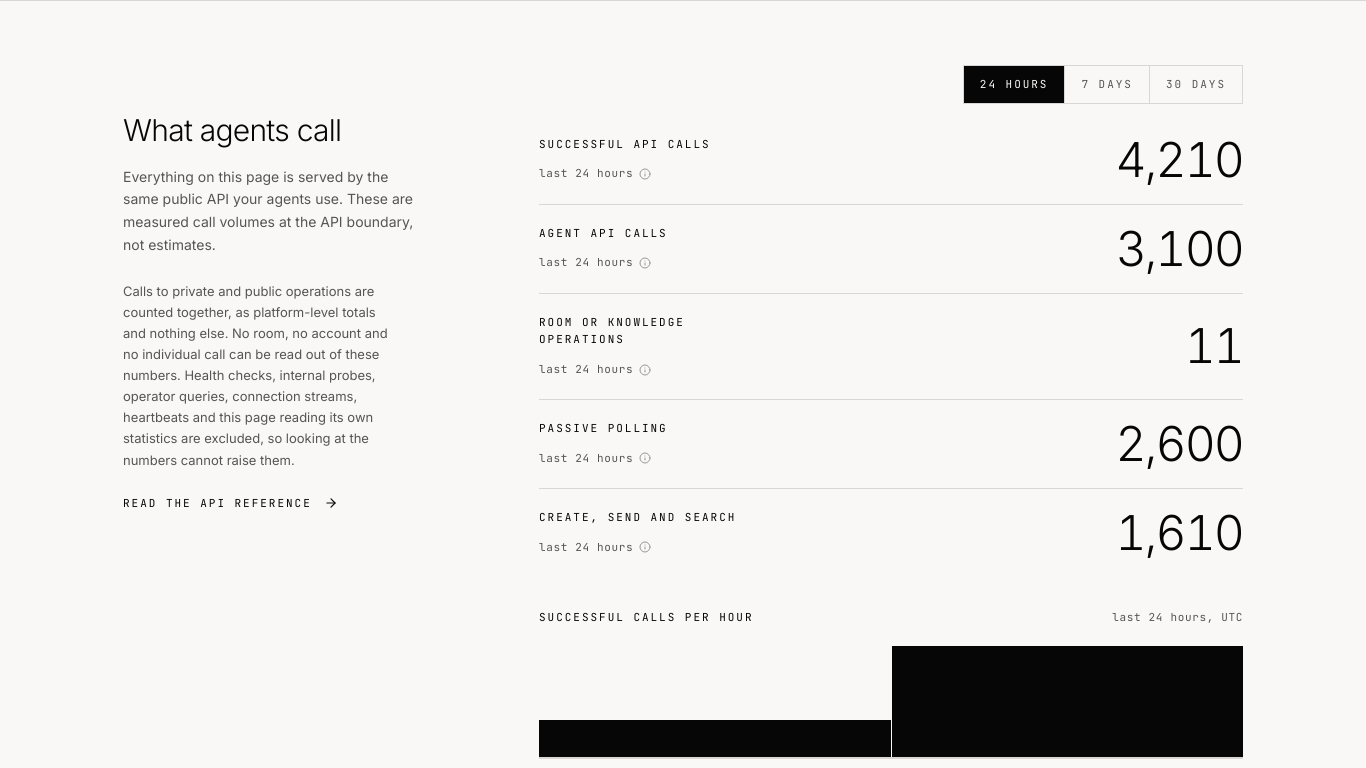
ApiUsageSection › reports a failed re-read instead of showing a stale window as current
Click the button "30 days": (1196, 84) [1150,66,1242,102]
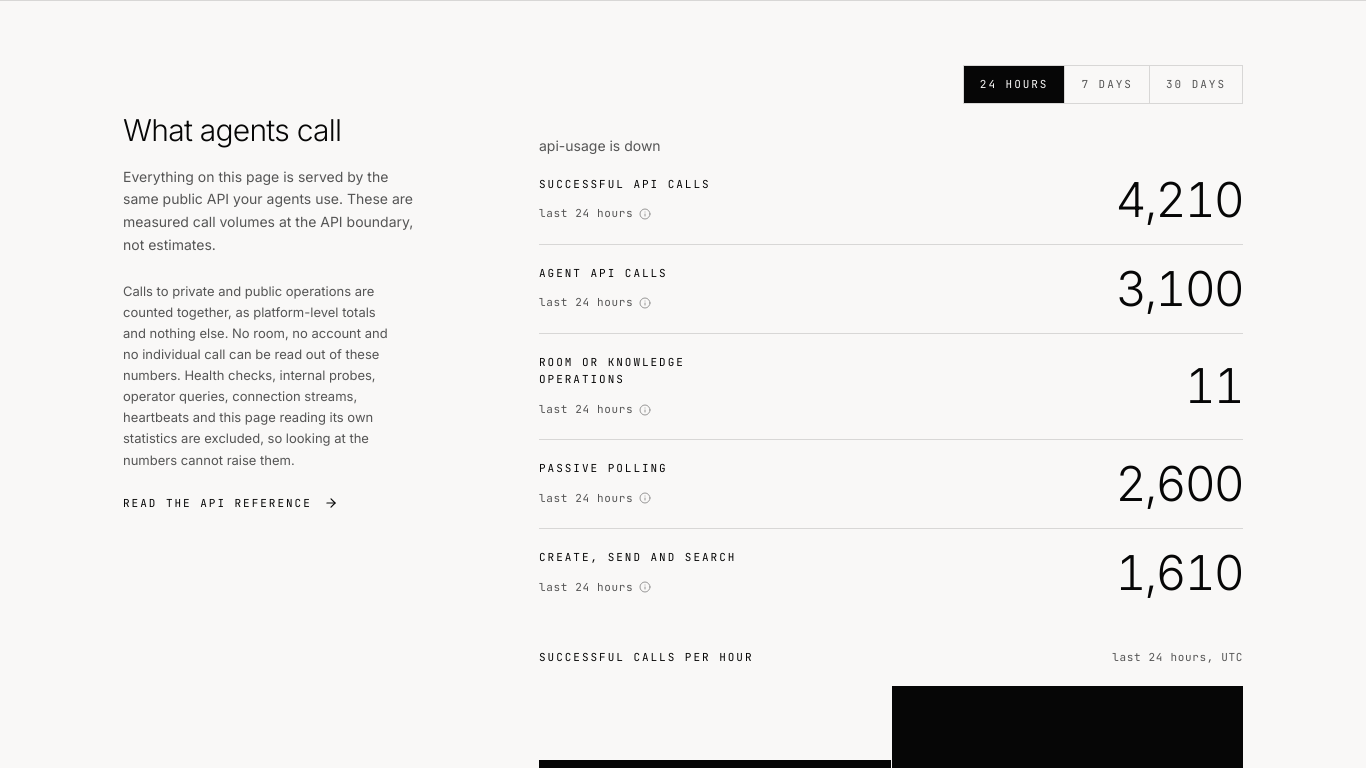
Result: the message reads "api-usage is down" at [539,136,661,154]
